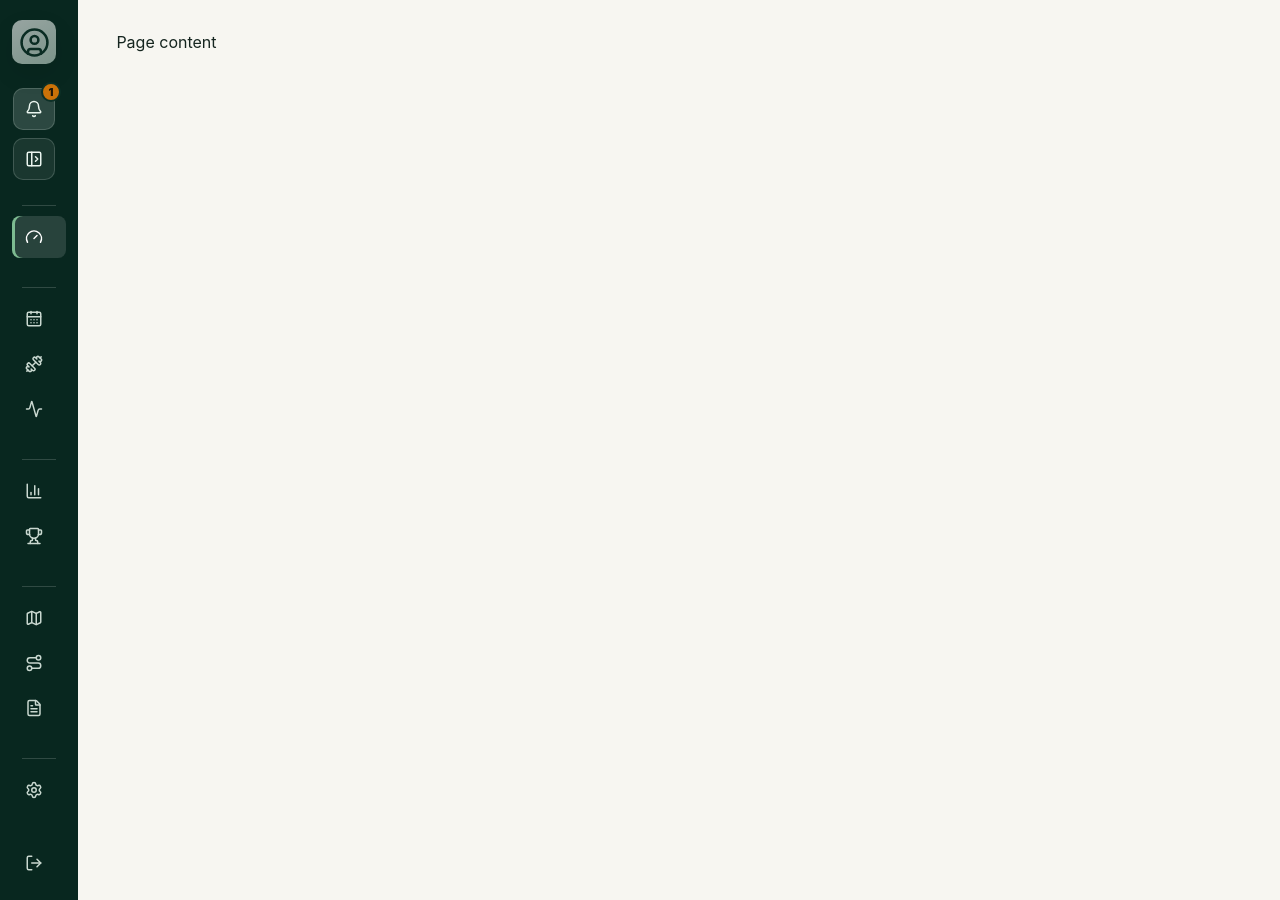
AppShell › shows demo badge and disables shell mutation controls for demo sessions
The image size is (1280, 900).
Expected: the button named "Upravit profilovou ikonu" is disabled, 12,20 -> 56,64
Click the button named "Notifikace" at (34, 109), box 13,88 -> 55,130
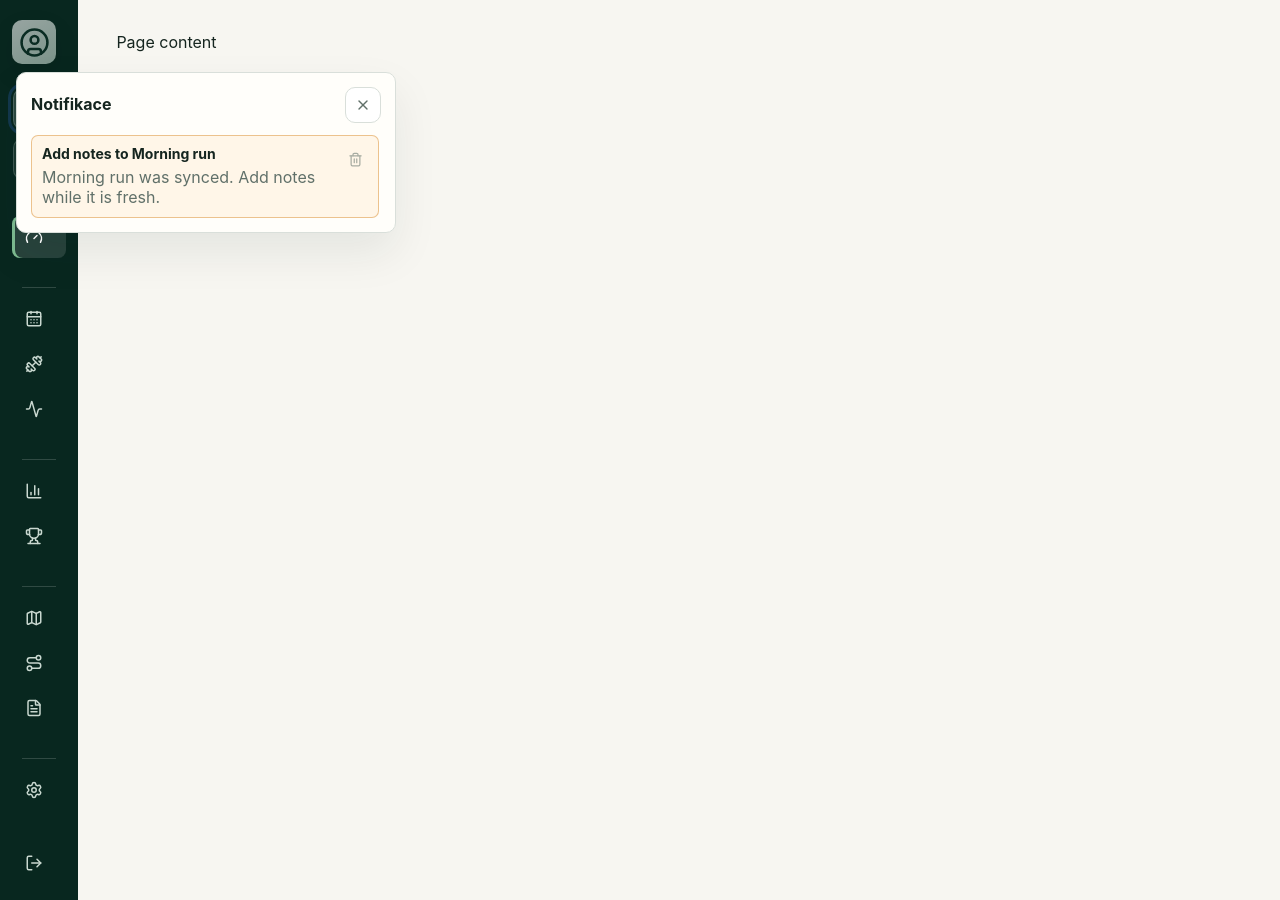
Now the button named "Odstranit" is disabled, box 338,142 -> 372,176
